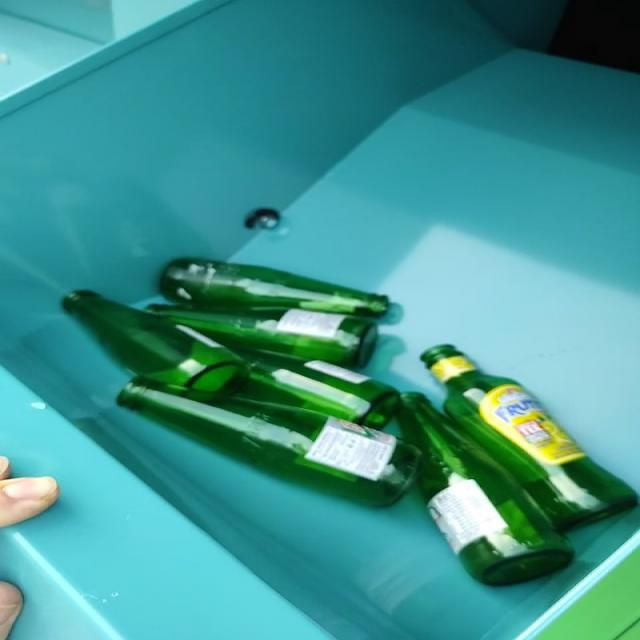glass: (64, 259, 639, 585)
